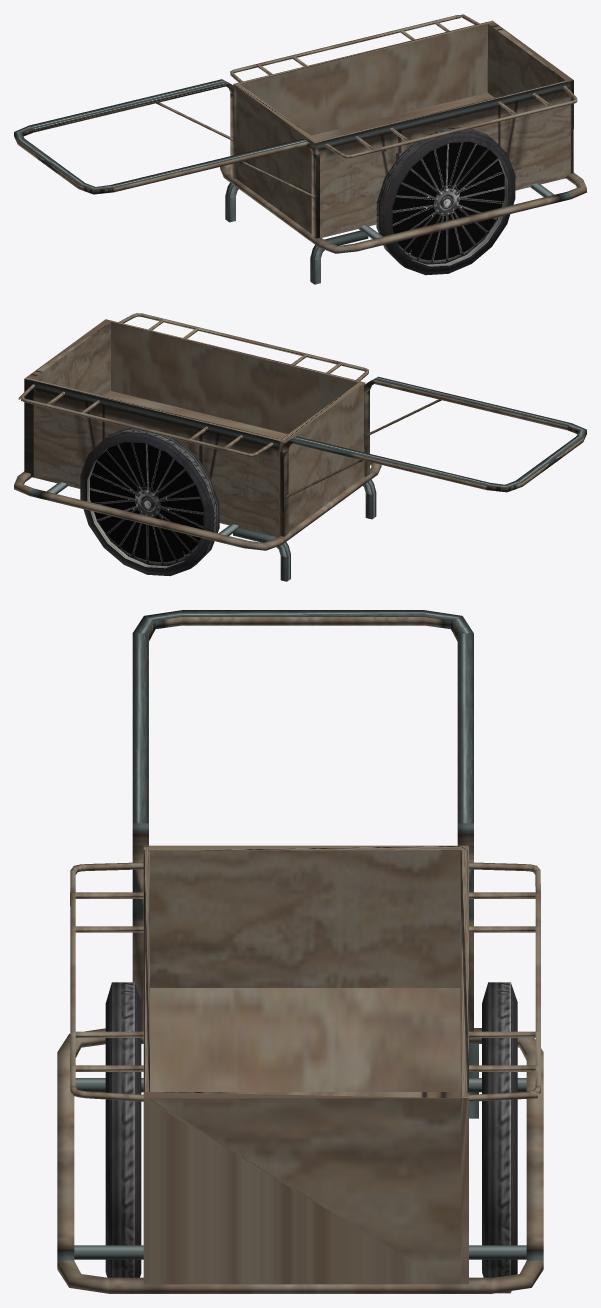
File: liercar.fbx
3 views of the same model, one above another, from view 1: azimuth 30°, elevation 25°; view 2: azimuth 150°, elevation 25°; view 3: azimuth 270°, elevation 25° (orthographic). The views are drawn at different scales.
Parts seen in each view (by area): view 1: polySurface81; view 2: polySurface81; view 3: polySurface81.
Boxes of the visible parts, x1,y1,x2,y2 form: polySurface81: [14, 14, 586, 284]; polySurface81: [14, 313, 586, 581]; polySurface81: [57, 610, 543, 1293].
Bounding box in the file's own units: 85.86 × 27.37 × 37.14.
